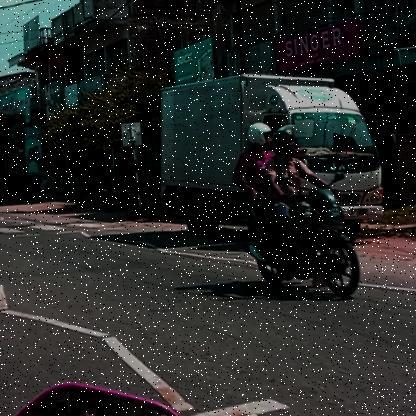motorcycle: (240, 188, 364, 300)
